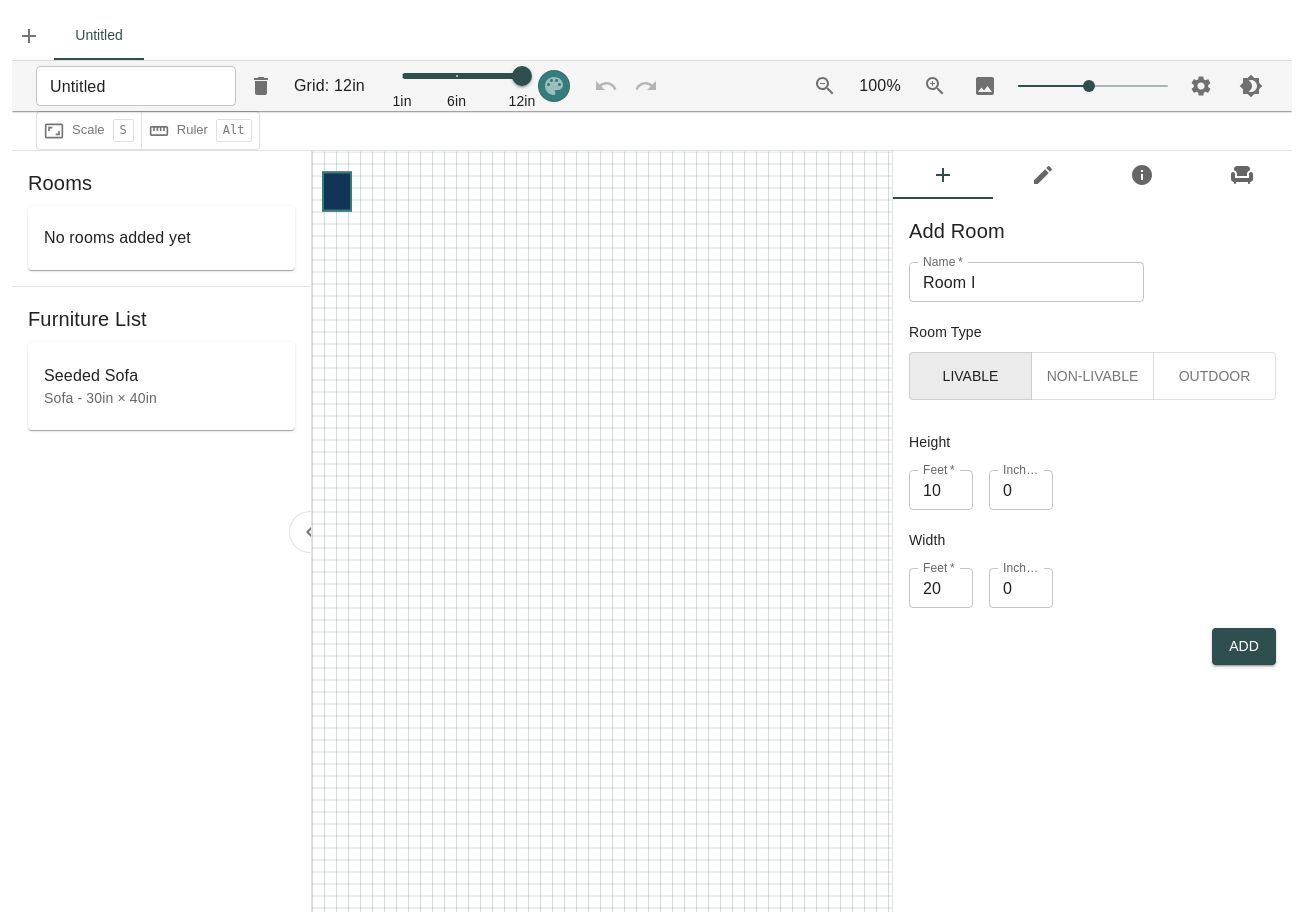
Scenario: App furniture propagation › deleting and undoing furniture updates the left list and canvas together
Click the text "Seeded Sofa" at x=91, y=376, box [44,367,138,384]
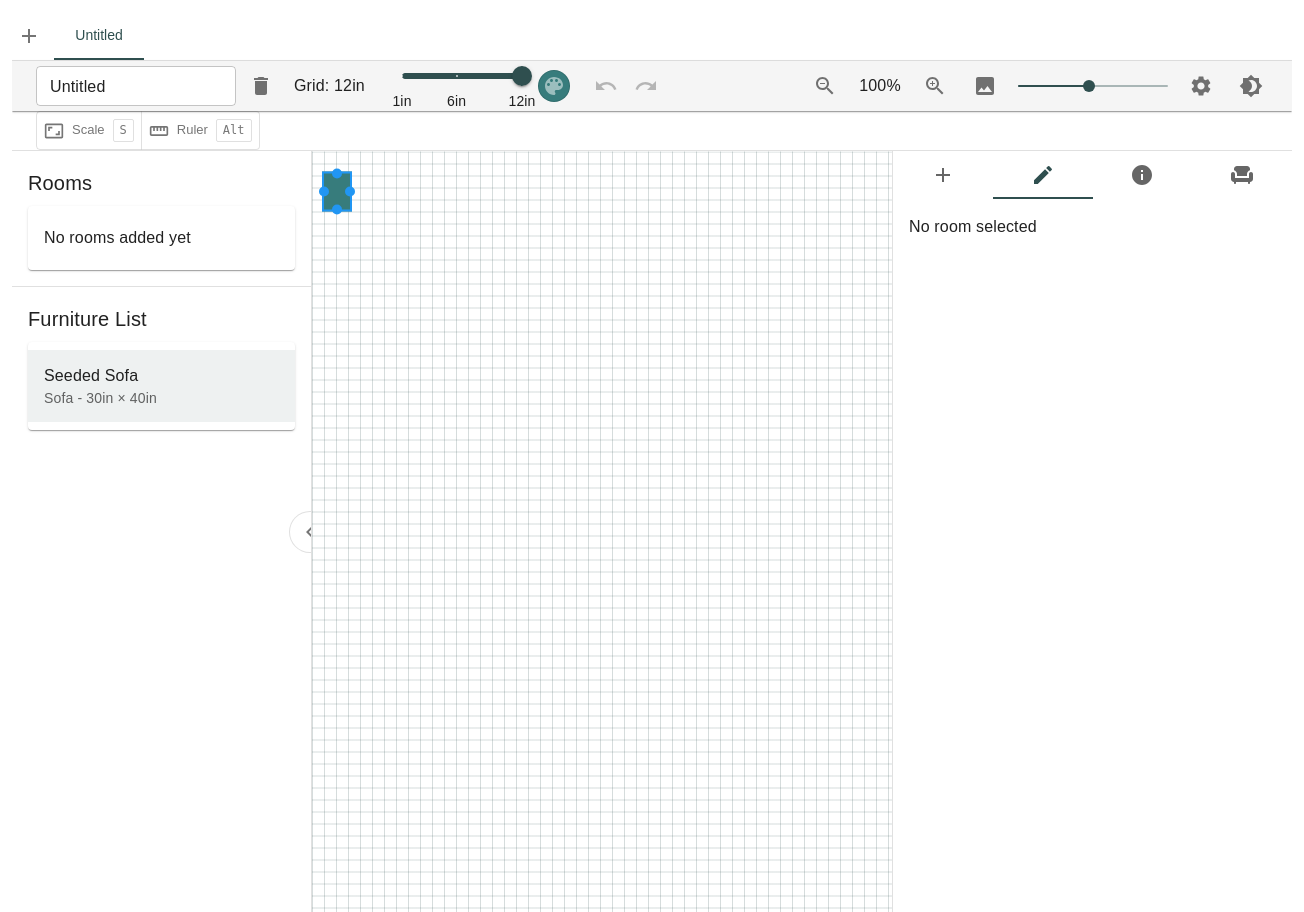
Press Delete
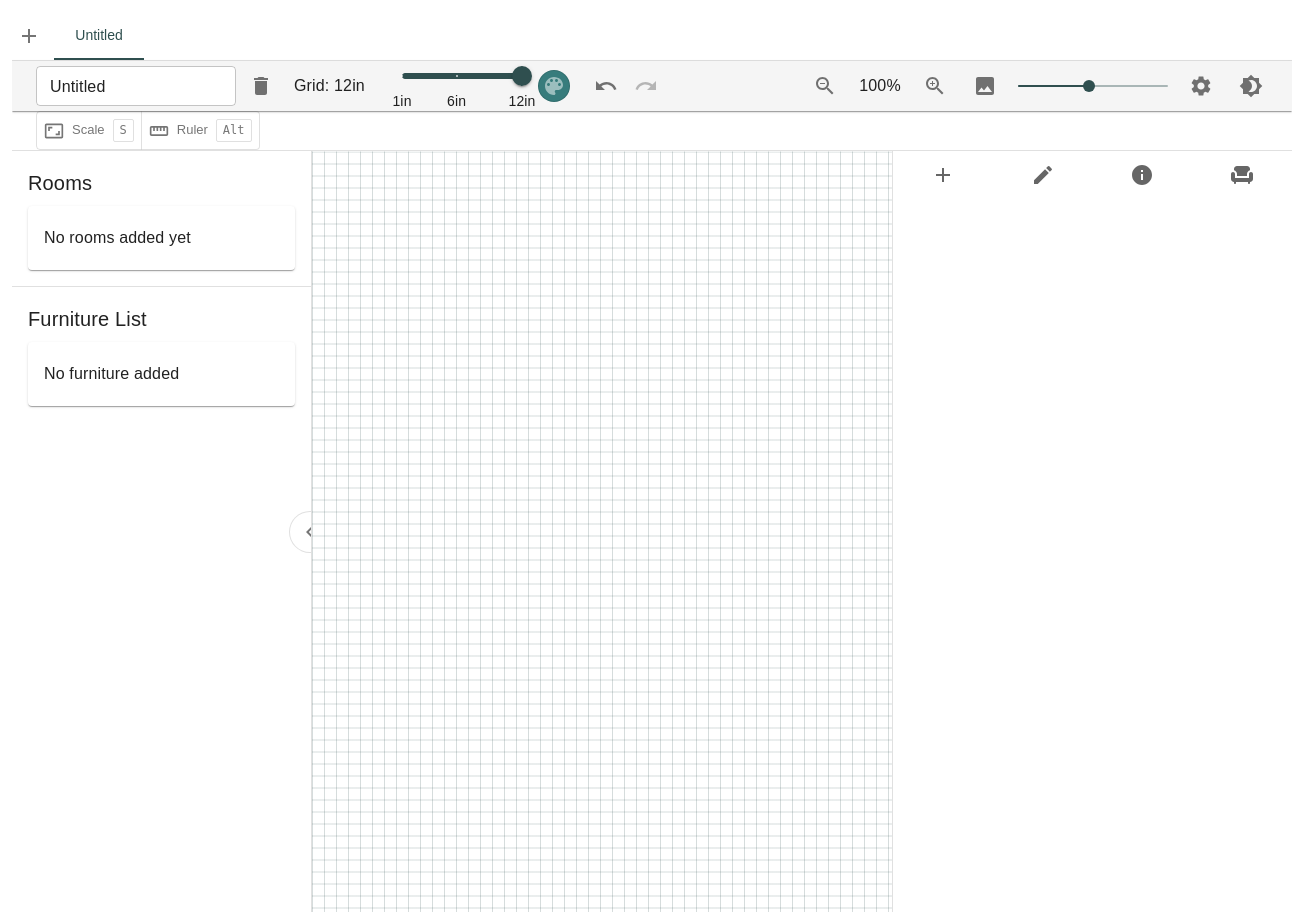
Expected: the button "Seeded Sofa" is gone
Press z
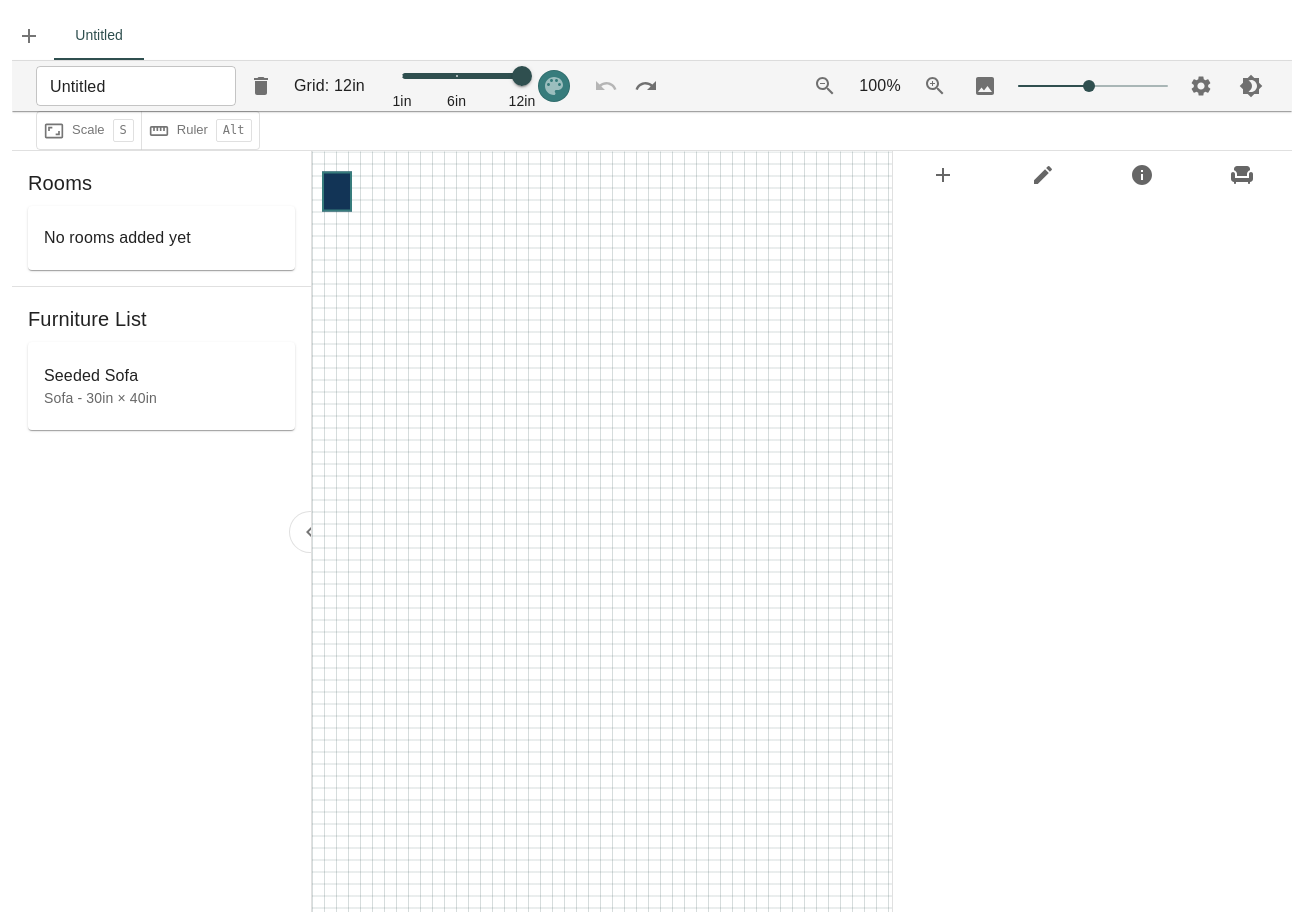
Expected: the text "Seeded Sofa" is shown, [44,367,138,384]
